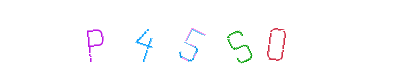4: (127, 0, 207, 80)
5: (157, 0, 237, 80)
O: (236, 0, 316, 80)
P: (117, 0, 197, 80)
S: (199, 0, 279, 80)
